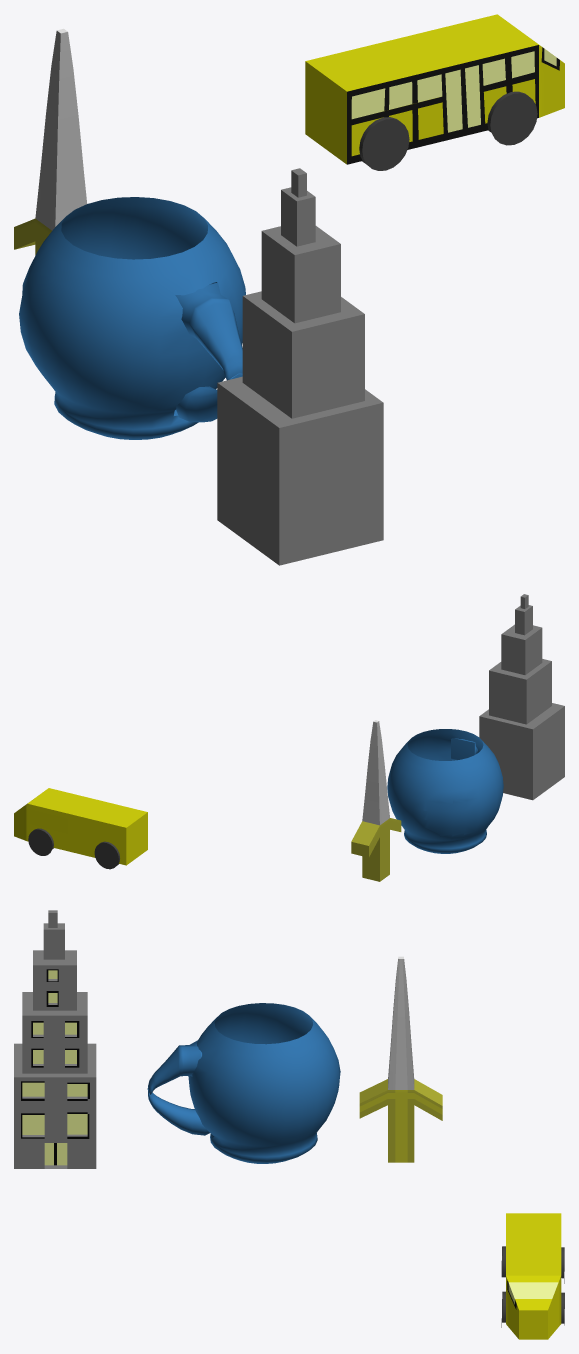
File: Surfacing_Demo.obj
3 views of the same model, one above another, from view 1: azimuth 30°, elevation 25°; view 2: azimuth 150°, elevation 25°; view 3: azimuth 270°, elevation 25° (orthographic). The views are drawn at different scales.
Visible parts, largest first — view 1: Skyscraper, Cup, Bus, Dagger, Handle_top, Wheel_2, Wheel_1, Handle_bottom; view 2: Skyscraper, Cup, Bus, Dagger, Wheel_1, Wheel_2, Handle_top; view 3: Cup, Skyscraper, Bus, Dagger, Handle_top, Handle_bottom.
Boxes of the visible parts, box(x1,y1,x2,y2) form: Skyscraper: box(217, 168, 383, 565); Cup: box(19, 197, 245, 439); Bus: box(305, 14, 564, 164); Dagger: box(14, 28, 87, 255); Handle_top: box(175, 282, 242, 380); Wheel_2: box(359, 117, 409, 170); Wheel_1: box(487, 91, 537, 145); Handle_bottom: box(176, 373, 242, 422); Skyscraper: box(479, 594, 564, 800); Cup: box(387, 729, 503, 853); Bus: box(14, 788, 147, 865); Dagger: box(351, 720, 401, 881); Wheel_1: box(28, 828, 53, 855); Wheel_2: box(94, 841, 119, 869); Handle_top: box(451, 738, 477, 759); Cup: box(188, 1003, 340, 1163); Skyscraper: box(14, 910, 96, 1168); Bus: box(506, 1213, 561, 1339); Dagger: box(359, 956, 442, 1162); Handle_top: box(148, 1040, 202, 1094); Handle_bottom: box(147, 1085, 209, 1135).
Bounding box in the file's own units: 21.04 × 10.07 × 21.
